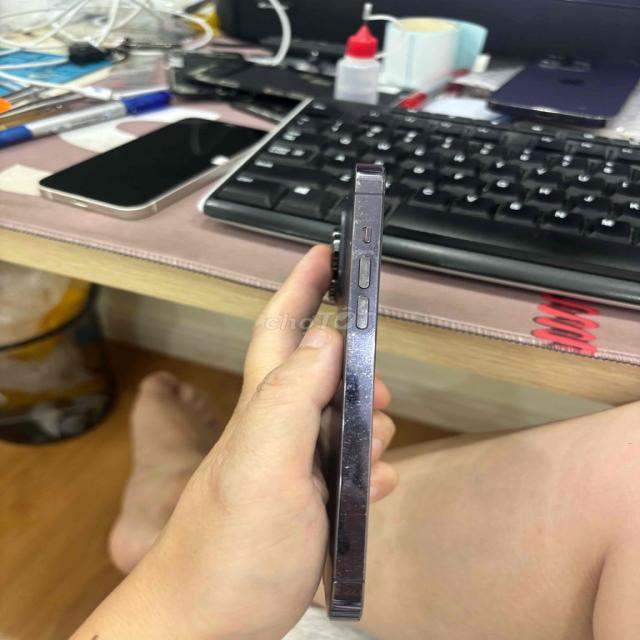scratch: (330, 460, 372, 614), (342, 340, 376, 459), (351, 250, 378, 342), (352, 172, 375, 250)
